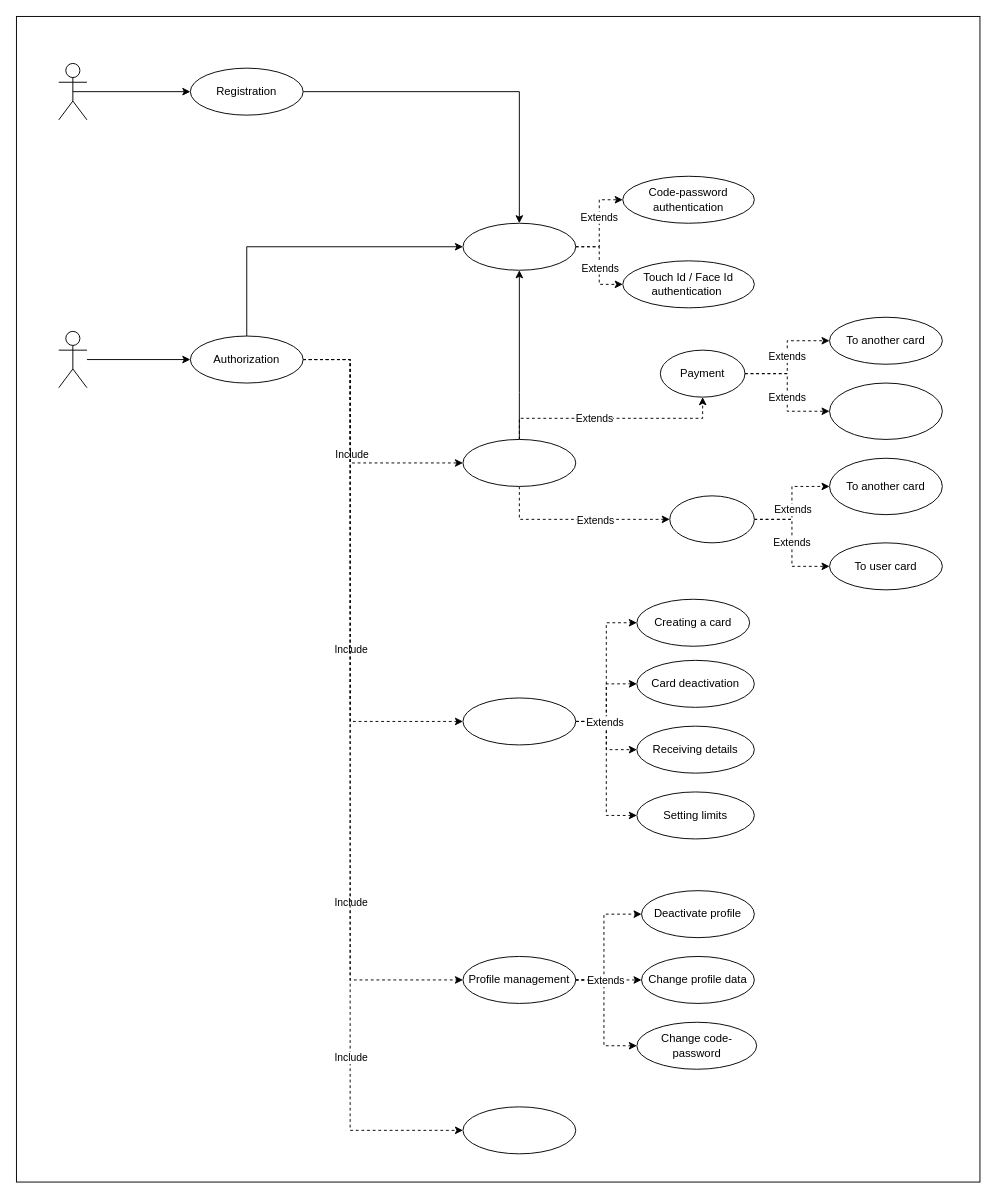
Some shapes in this 996 by 1199 pixel diagram are drawn without their labels. The shapes that lost their labels are listed below. From the top down, each one's box as (x1, y1, x2, y2) in pixels, then its label:
(58, 63, 87, 120): Guest
(462, 222, 576, 270): Two-factor authentication
(58, 330, 87, 388): Fina Mobile User
(829, 382, 942, 439): Payment in the system (analogous to ЕРИП)
(462, 439, 576, 486): Transaction
(669, 495, 754, 543): Refill
(462, 697, 576, 745): Card management
(462, 1106, 576, 1154): Transaction statistics
